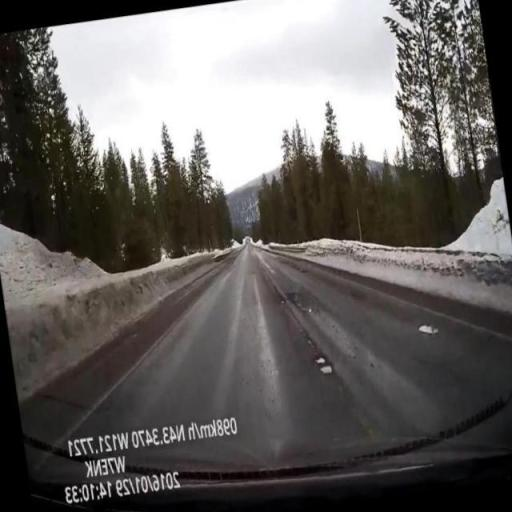pothole: (417, 323, 439, 335), (319, 364, 333, 376), (314, 356, 326, 365)
